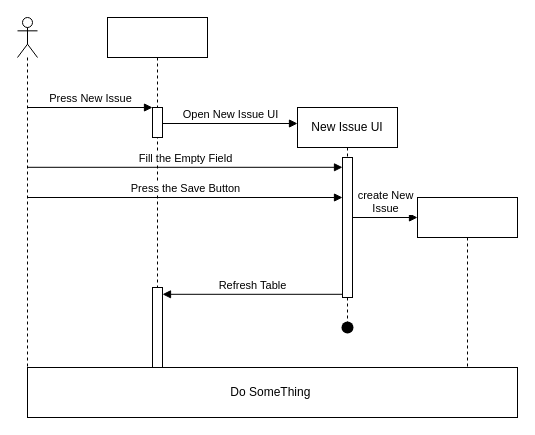
Some shapes in this 535 by 435 pixel diagram are drawn without their labels. The box of each missing label's shape, as (x1, y1, x2, y2) in pixels:
main UI: (106, 16, 208, 318)
newly created Issue: (416, 196, 518, 368)
